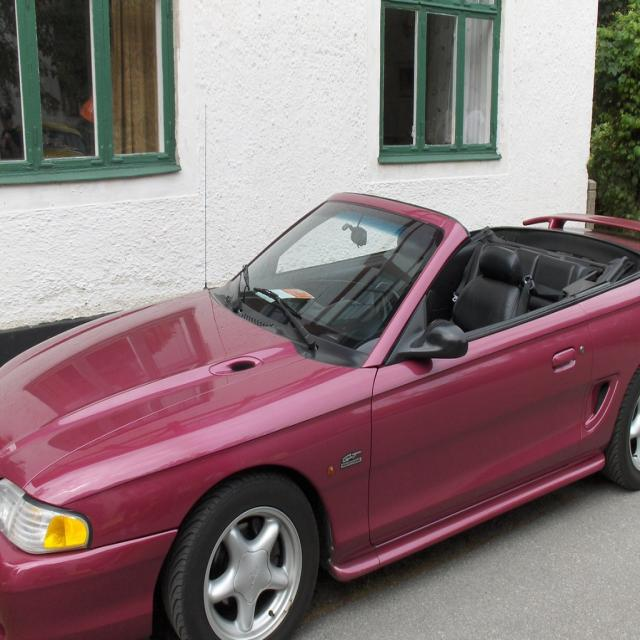car: (16, 199, 639, 628)
